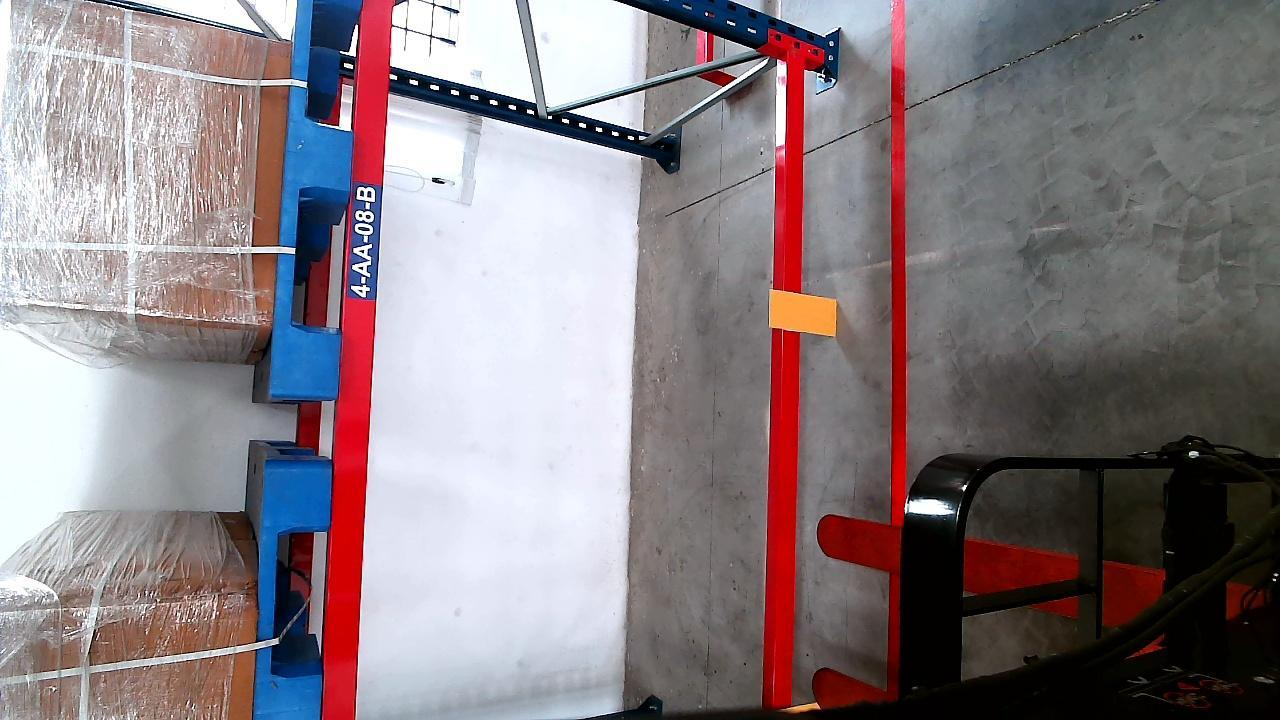red_line: (886, 0, 908, 525)
